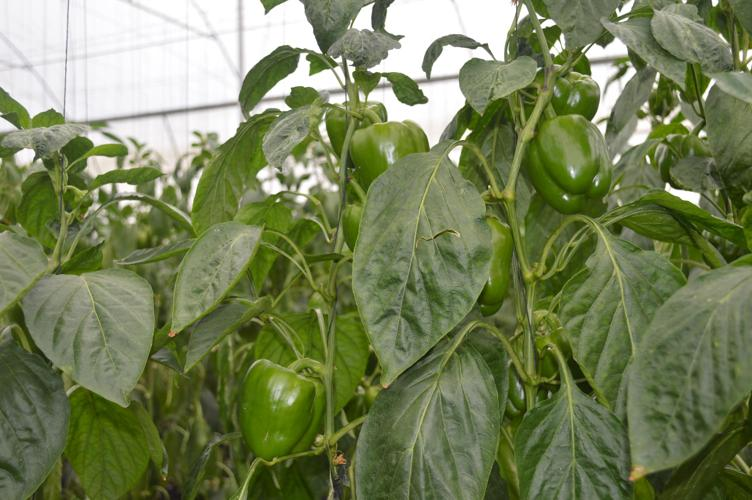BellPepper: (234, 360, 326, 454), (520, 114, 610, 207), (457, 211, 512, 310), (353, 119, 429, 179), (521, 65, 597, 114), (332, 102, 383, 157)
